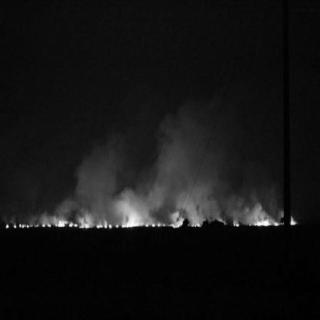Fire: (4, 202, 304, 230)
